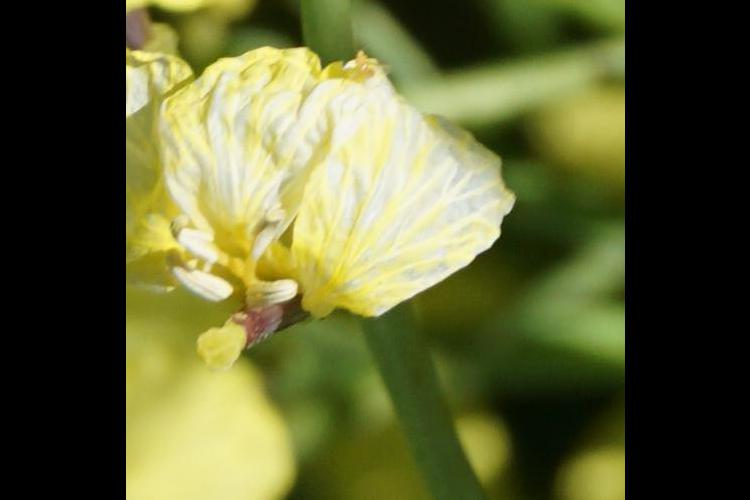yellow: (179, 47, 493, 315)
